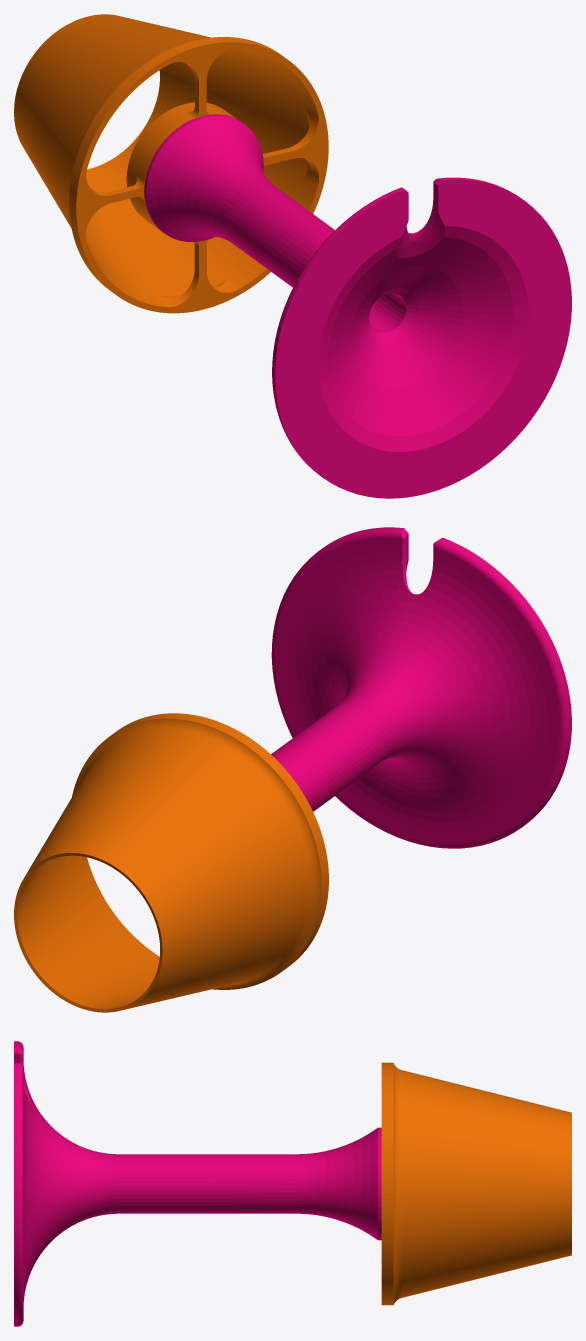
Rendered from n 1 light style.fbx.
The picture shows the model from 3 angles, top to bottom: view 1: azimuth 30°, elevation 25°; view 2: azimuth 150°, elevation 25°; view 3: azimuth 270°, elevation 25°; orthographic projection. The views are drawn at different scales.
Parts seen in each view (by area): view 1: Piedistallo, Lumino campana; view 2: Piedistallo, Lumino campana; view 3: Lumino campana, Piedistallo.
Part boxes in pixels (left/top/right/bottom): Piedistallo: left=144, top=114, right=571, bottom=498; Lumino campana: left=14, top=14, right=328, bottom=313; Piedistallo: left=271, top=527, right=571, bottom=848; Lumino campana: left=14, top=713, right=328, bottom=1012; Lumino campana: left=381, top=1062, right=571, bottom=1305; Piedistallo: left=14, top=1041, right=381, bottom=1326.
Size of the model in its own units: 11997 by 11947 by 23455.
